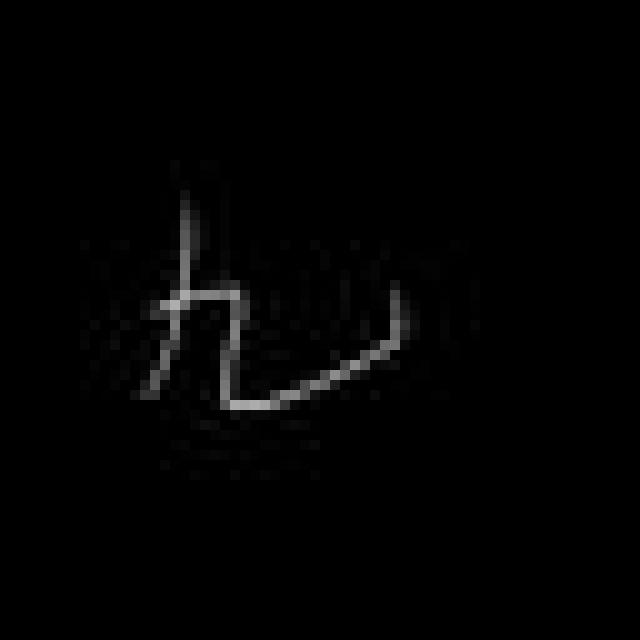9 -nine-: (131, 206, 412, 424)
